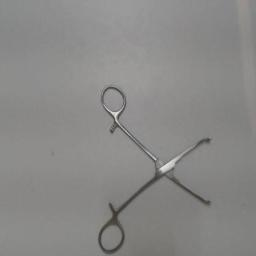Allis Tissue Forceps: (96, 80, 218, 254)
